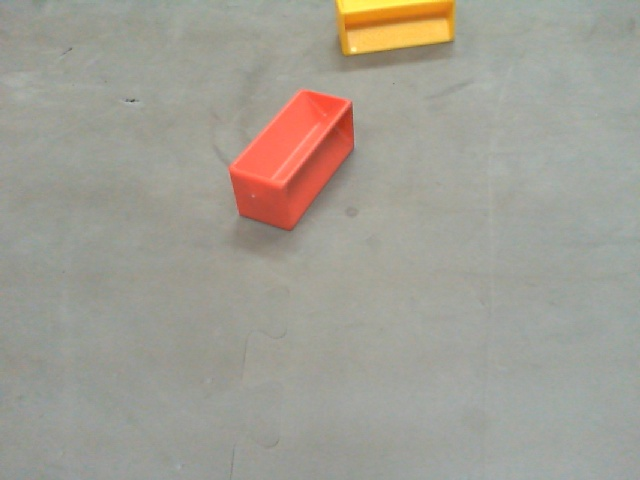RedSample: (227, 88, 355, 234)
YellowSample: (333, 1, 455, 60)
